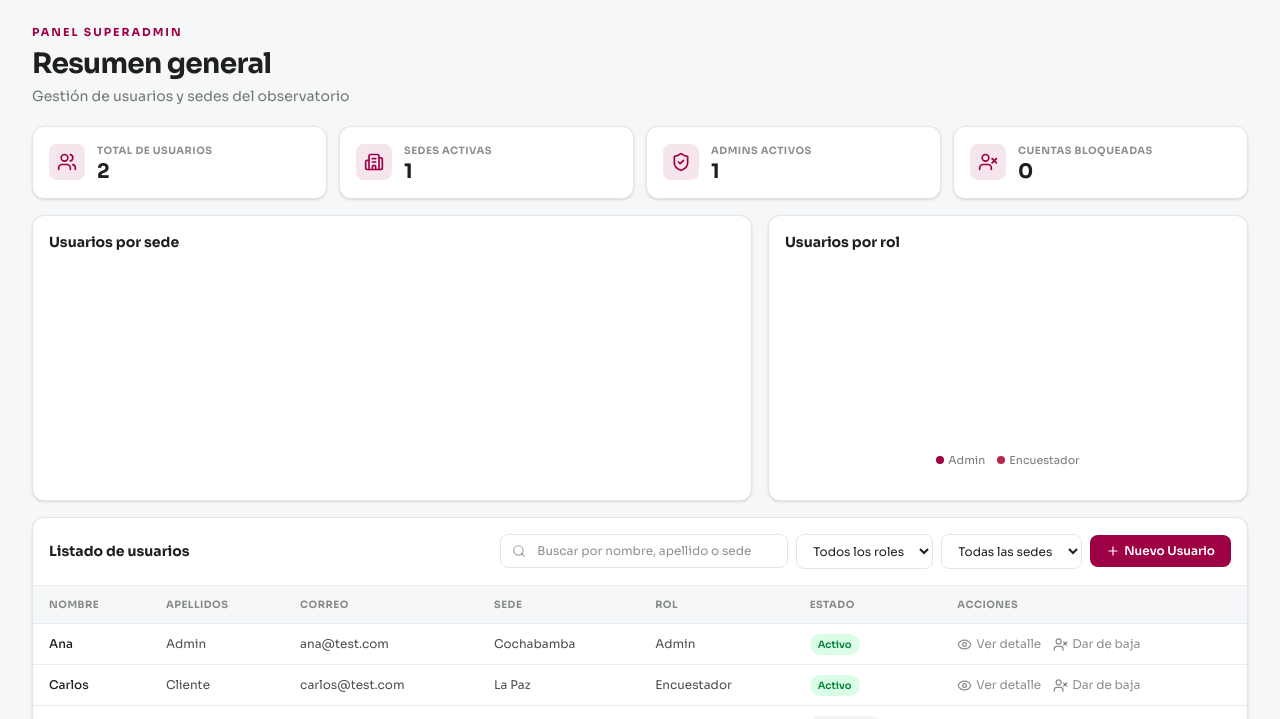
Test: UsuariosPage › el buscador pide al servidor con el texto ingresado (q) y refresca la tabla
Expected: the text "Ana" is shown, [33,624,150,665]
In the field with placeholder "Buscar por nombre, apellido o sede": point(644, 551) [500,534,788,568], type "la paz"
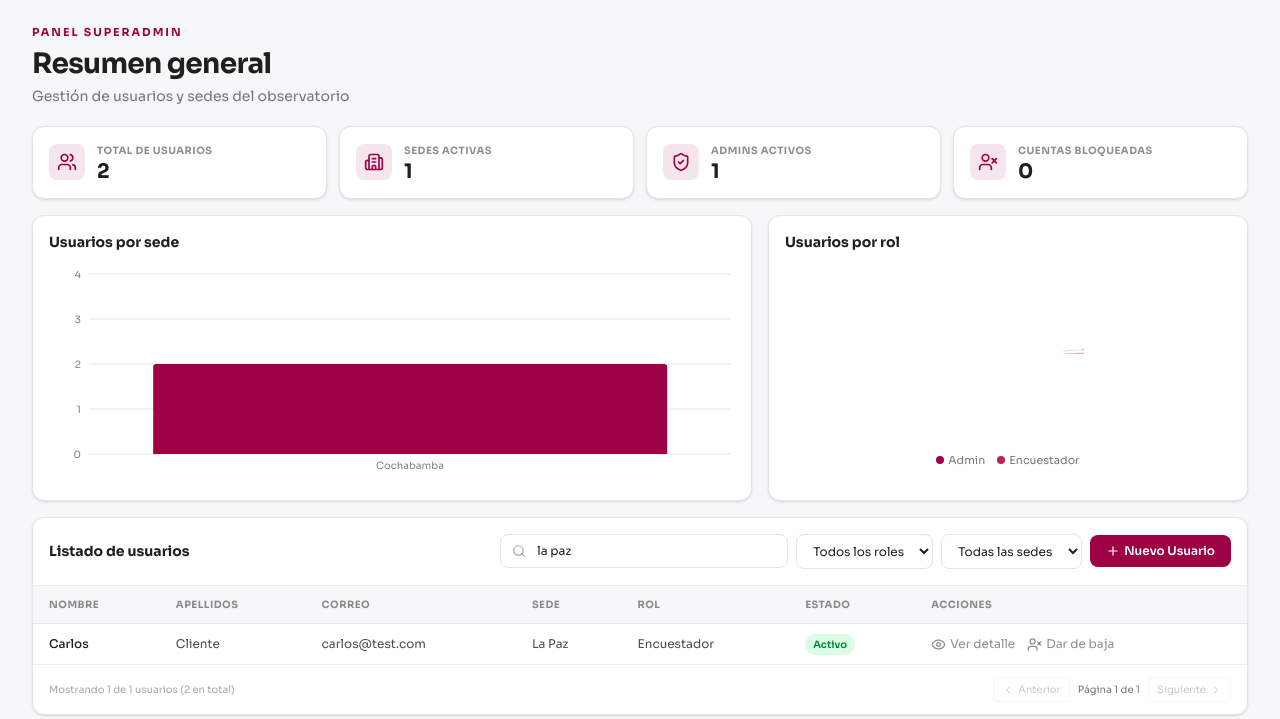
Expected: the text "Carlos" is shown, [33,624,160,664]
Expected: the text "Ana" is gone
